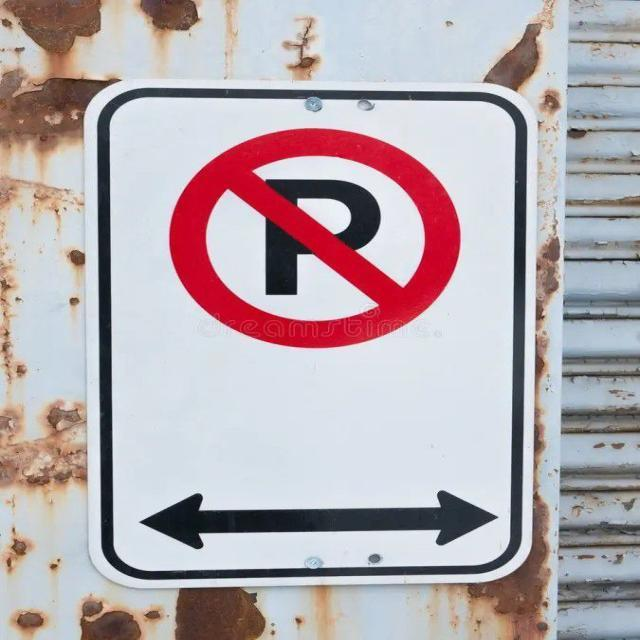no parking: (156, 112, 470, 357)
